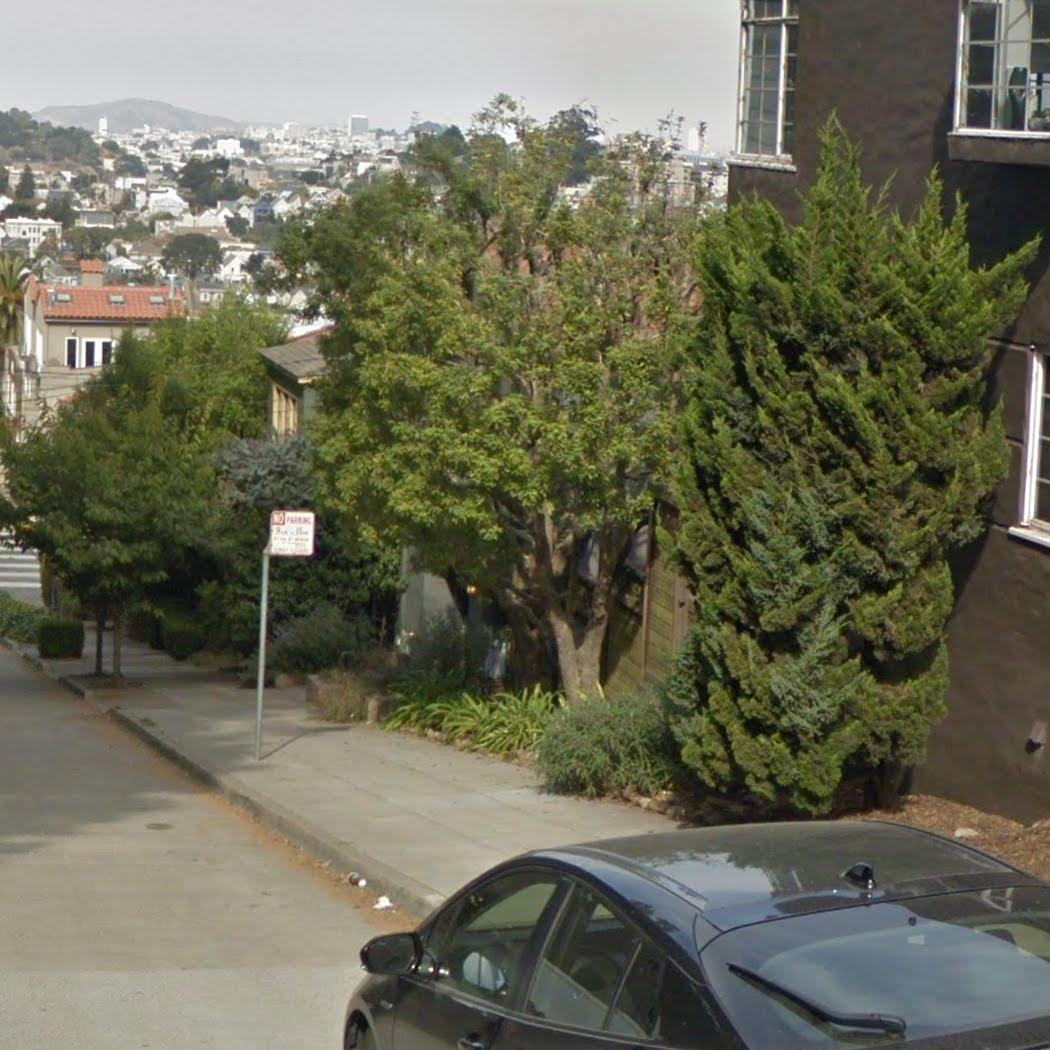No Parking: (266, 504, 318, 561)
